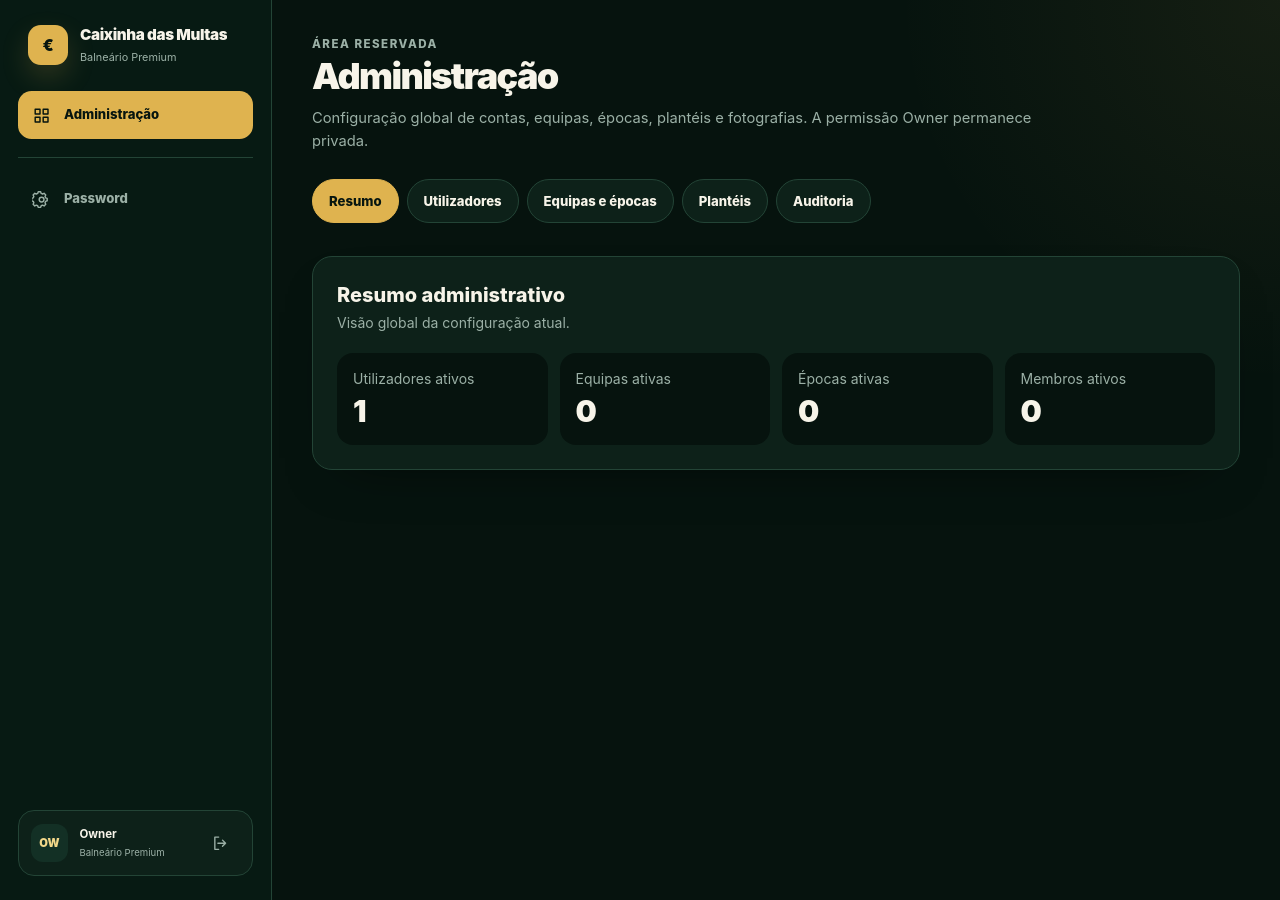
Scenario: Painel Super Admin › cria uma conta e mostra a password temporária apenas na resposta
Expected: the heading "Administração" is shown, [312,54,558,98]
Click the button "Utilizadores" at coordinates (462, 201), box [406,179,518,223]
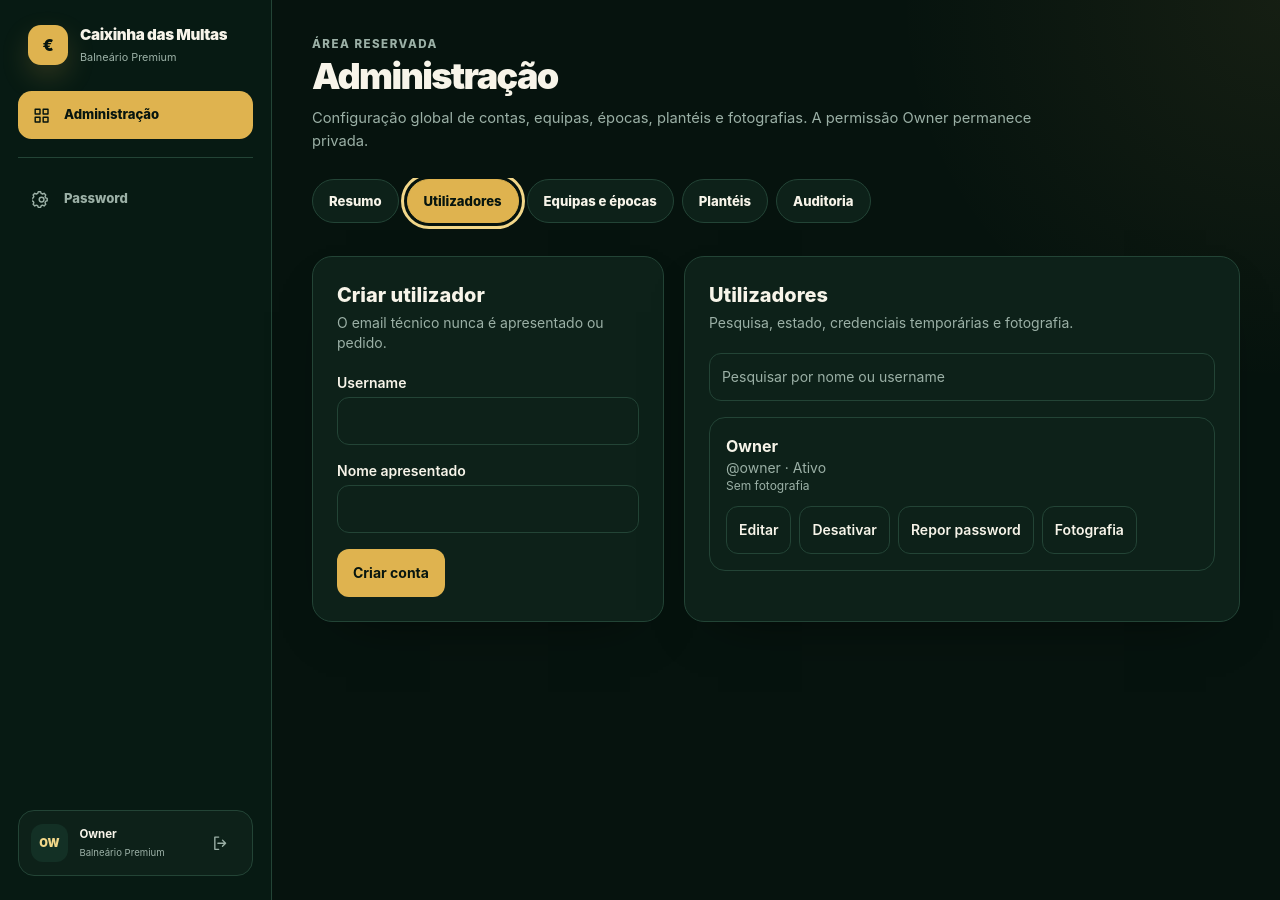
Type "novo.jogador" into the field labelled "Username" at coordinates (488, 421), box [337,397,639,445]
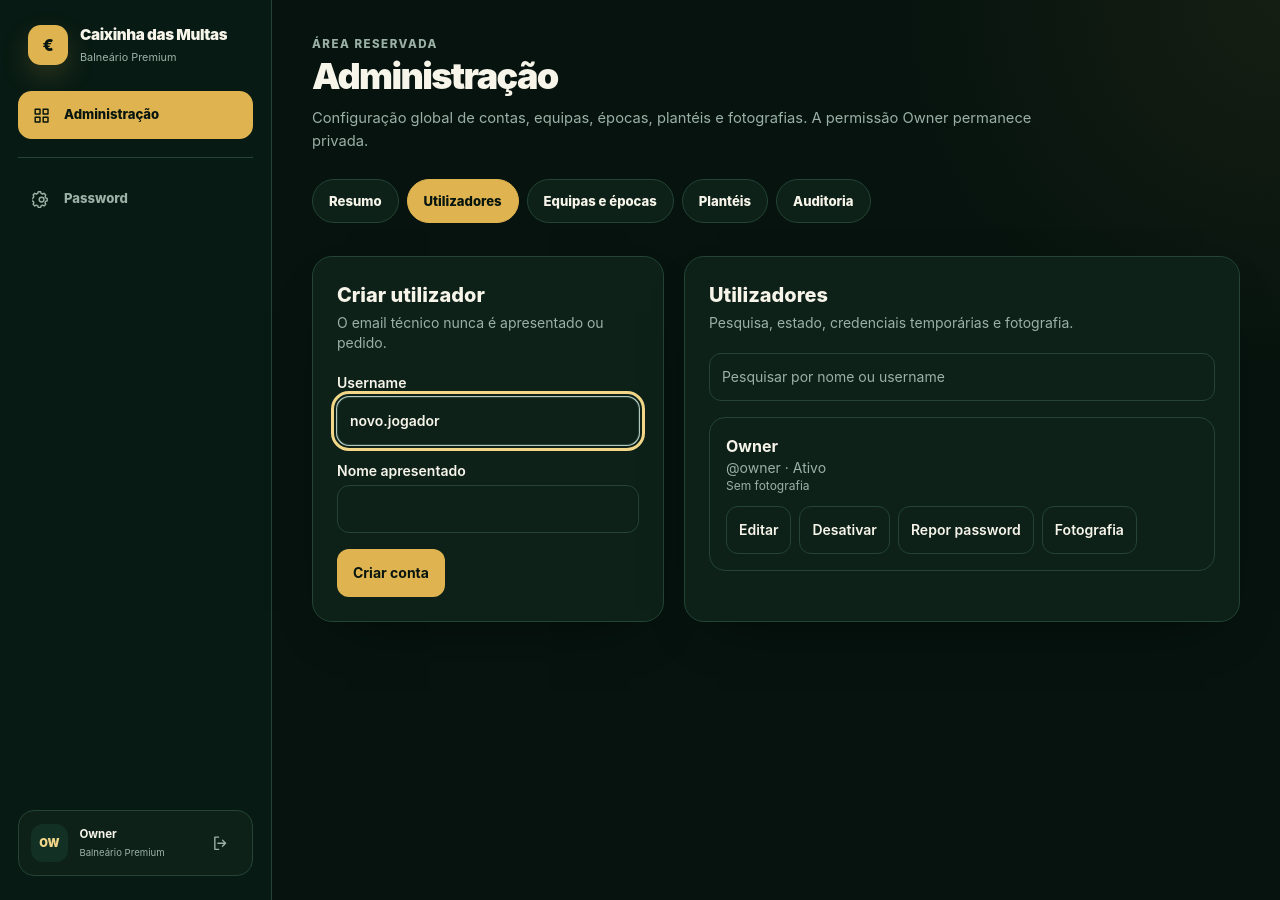
Type "Novo Jogador" into the field labelled "Nome apresentado" at coordinates (488, 509), box [337,485,639,533]
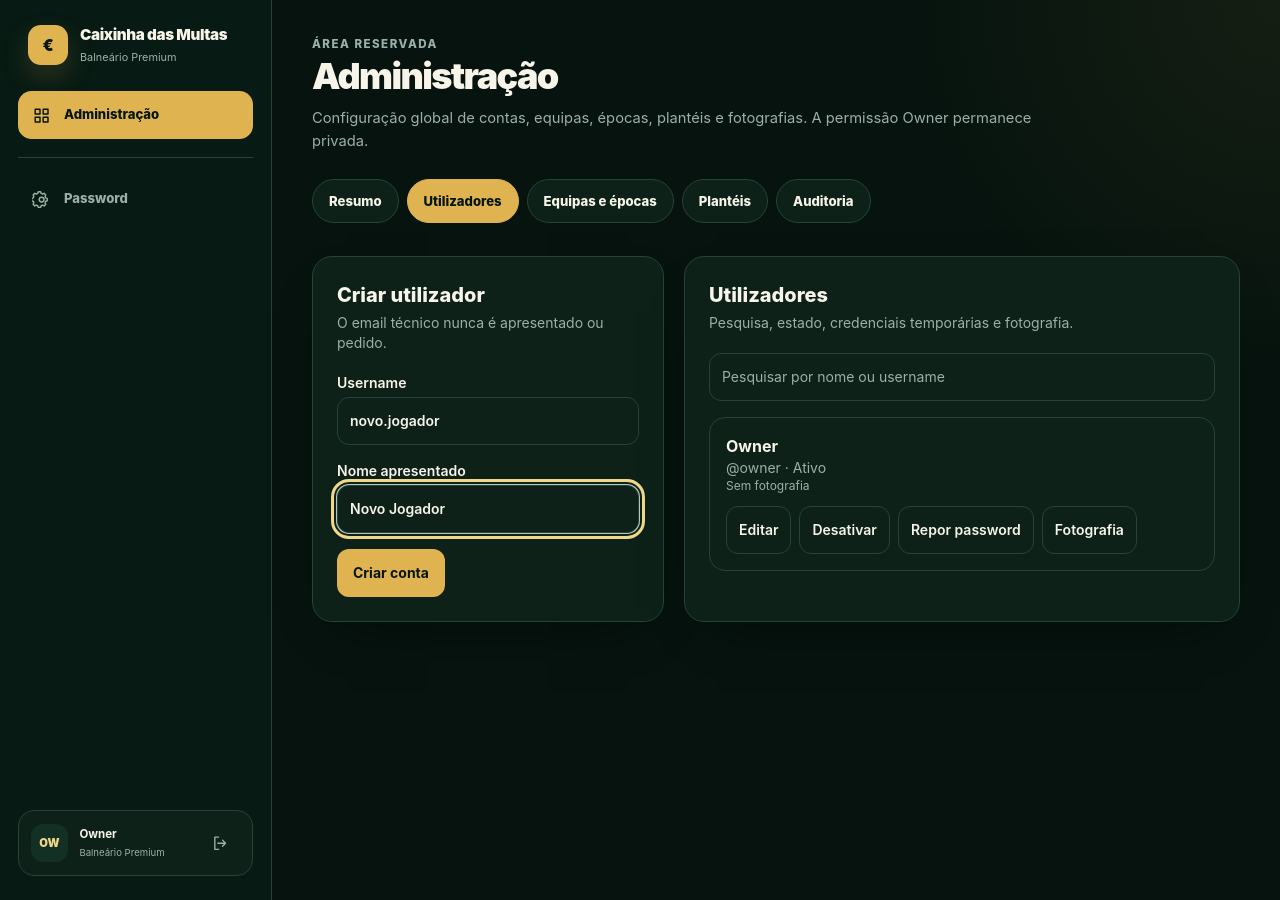
Click the button "Criar conta" at coordinates (391, 573), box [337,549,445,597]
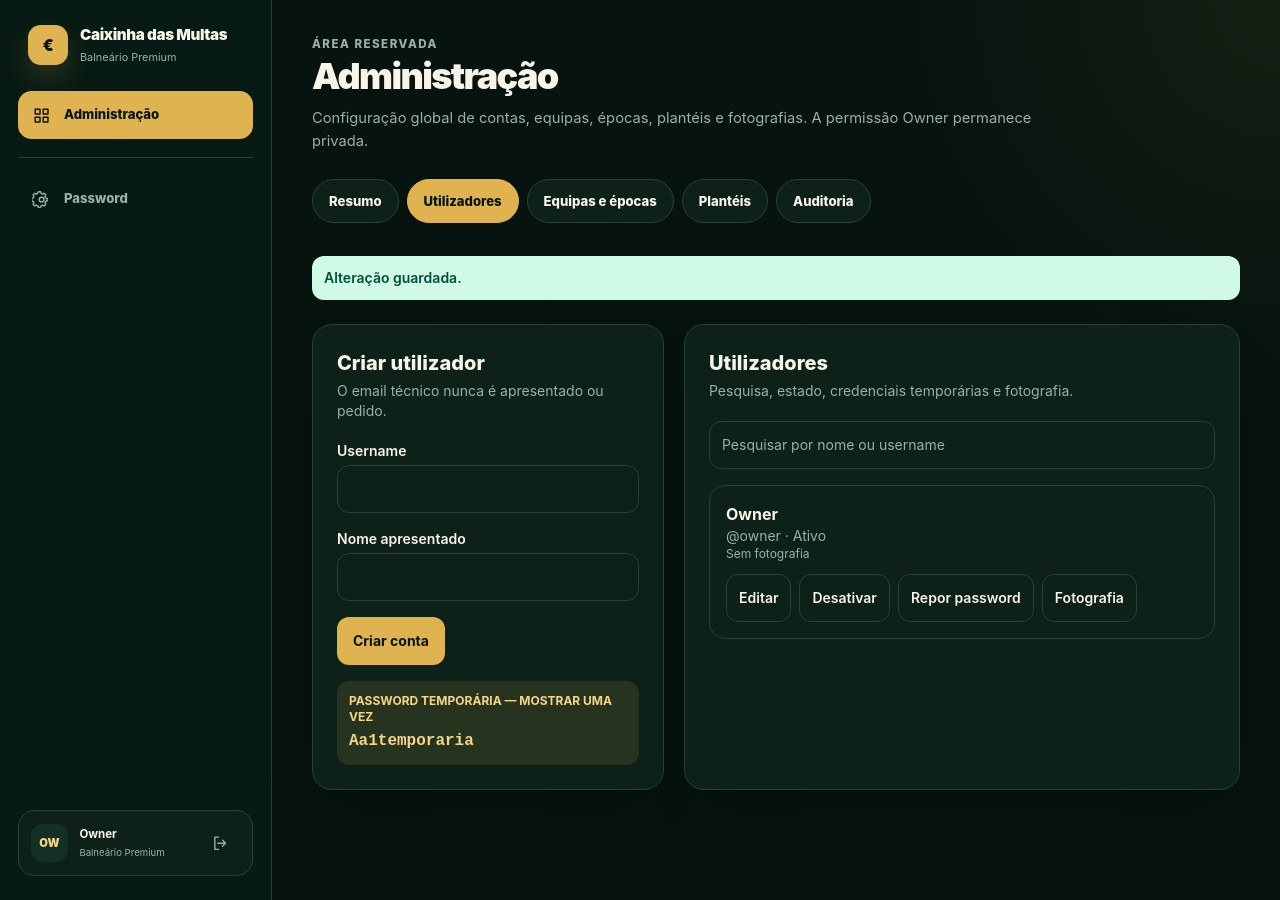
Expected: the text "Aa1temporaria" is shown, [349,732,474,750]
